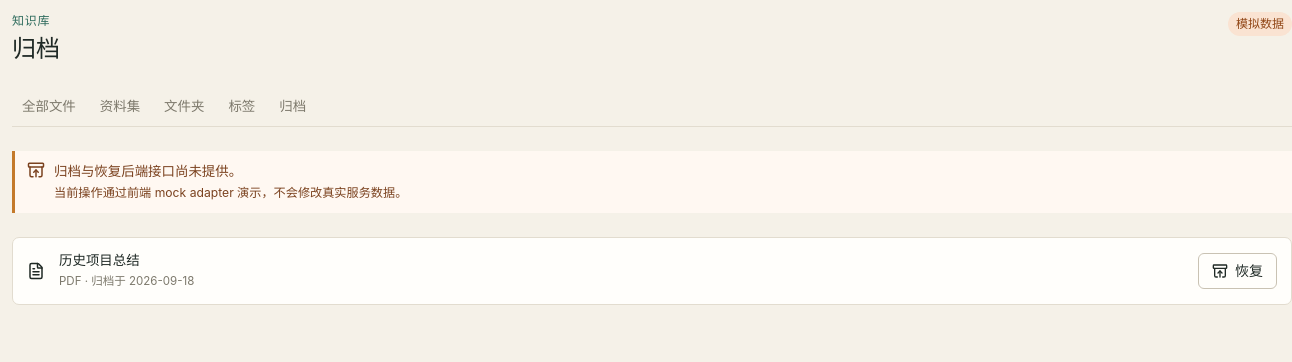
Test: ArchivePage › labels mock data and restores an archived file through the adapter
The width and height of the screenshot is (1292, 362).
Expected: the text "模拟数据" is shown, x1=1228 y1=12 x2=1291 y2=36
Click the button with aria-label "恢复 历史项目总结" at (1238, 270), box x1=1198 y1=252 x2=1277 y2=288
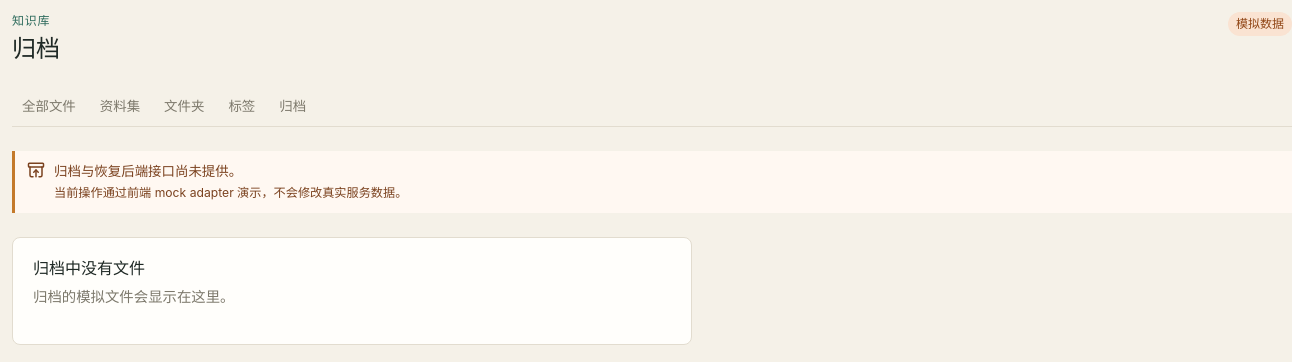
Expected: the heading "归档中没有文件" is shown, x1=33 y1=258 x2=145 y2=278
